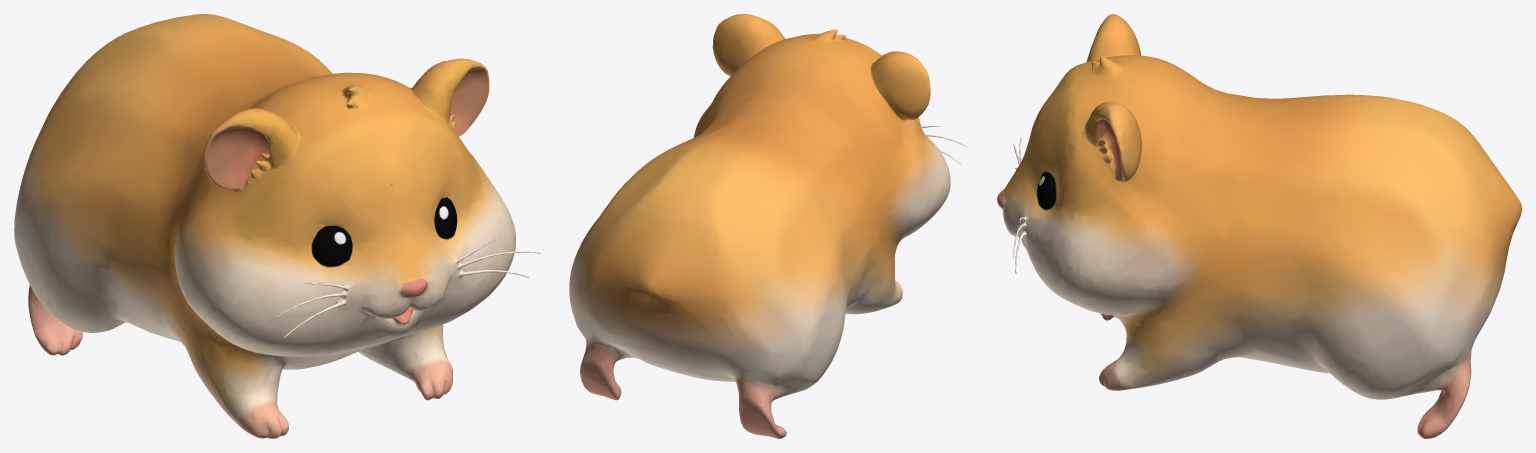
The model's file is golden-hamster.glb.
3 views of the same model, side by side, from view 1: azimuth 30°, elevation 25°; view 2: azimuth 150°, elevation 25°; view 3: azimuth 270°, elevation 25° (orthographic). The views are drawn at different scales.
Bounding box in the file's own units: 1.25 × 1.38 × 2.
Materials: 1 (1 with a texture image).
